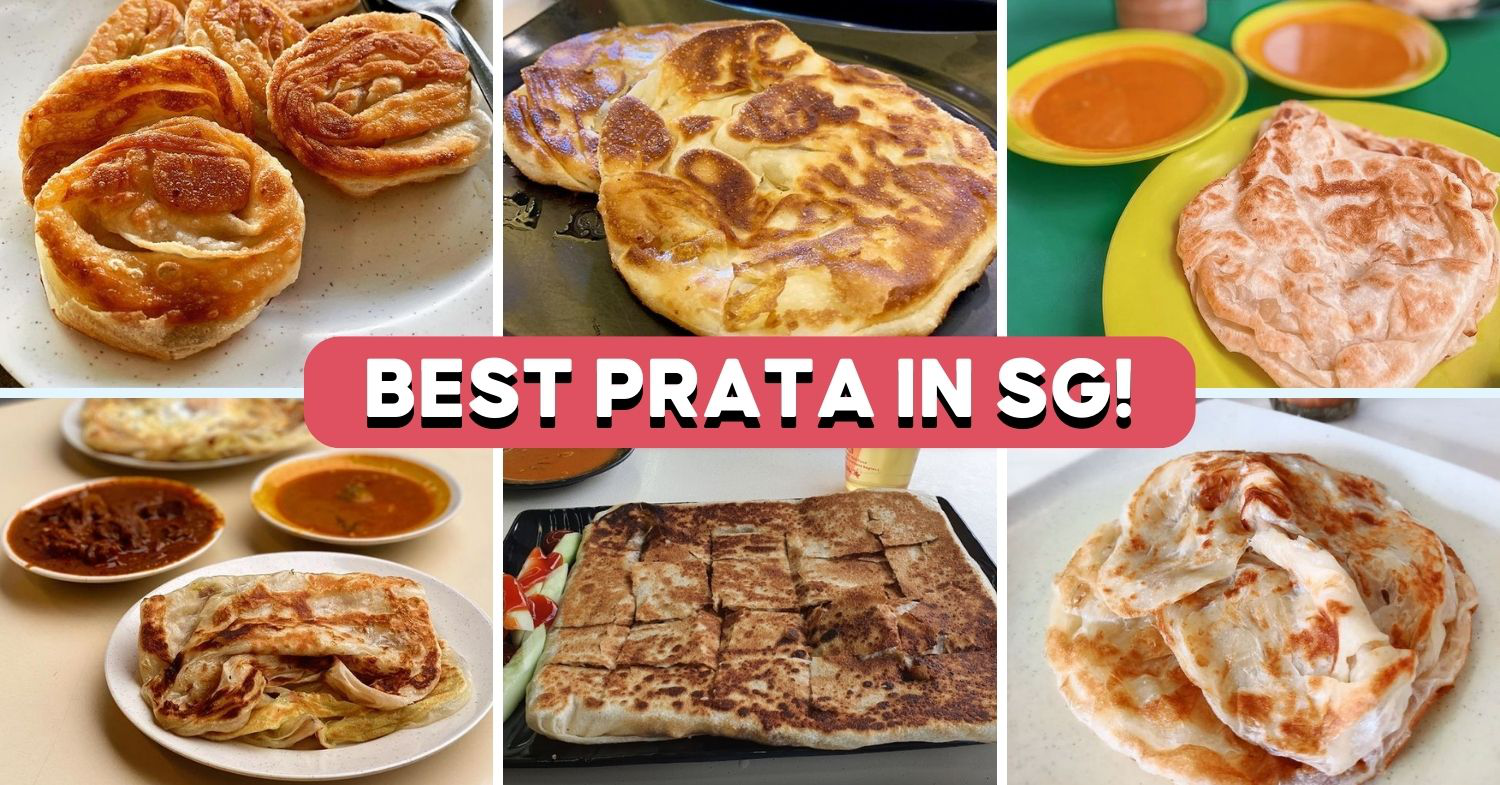Prata: (1055, 472, 1479, 784), (567, 51, 982, 316), (1171, 111, 1499, 376), (138, 569, 473, 748), (35, 141, 313, 342), (506, 11, 788, 182), (280, 17, 488, 182), (6, 56, 253, 174), (71, 388, 310, 466)
